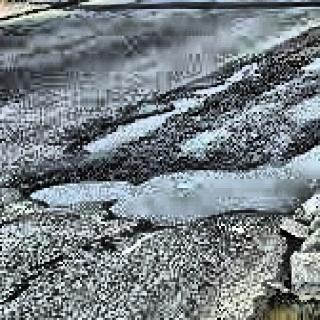crack: (68, 27, 308, 158)
pothole: (36, 168, 320, 250)
